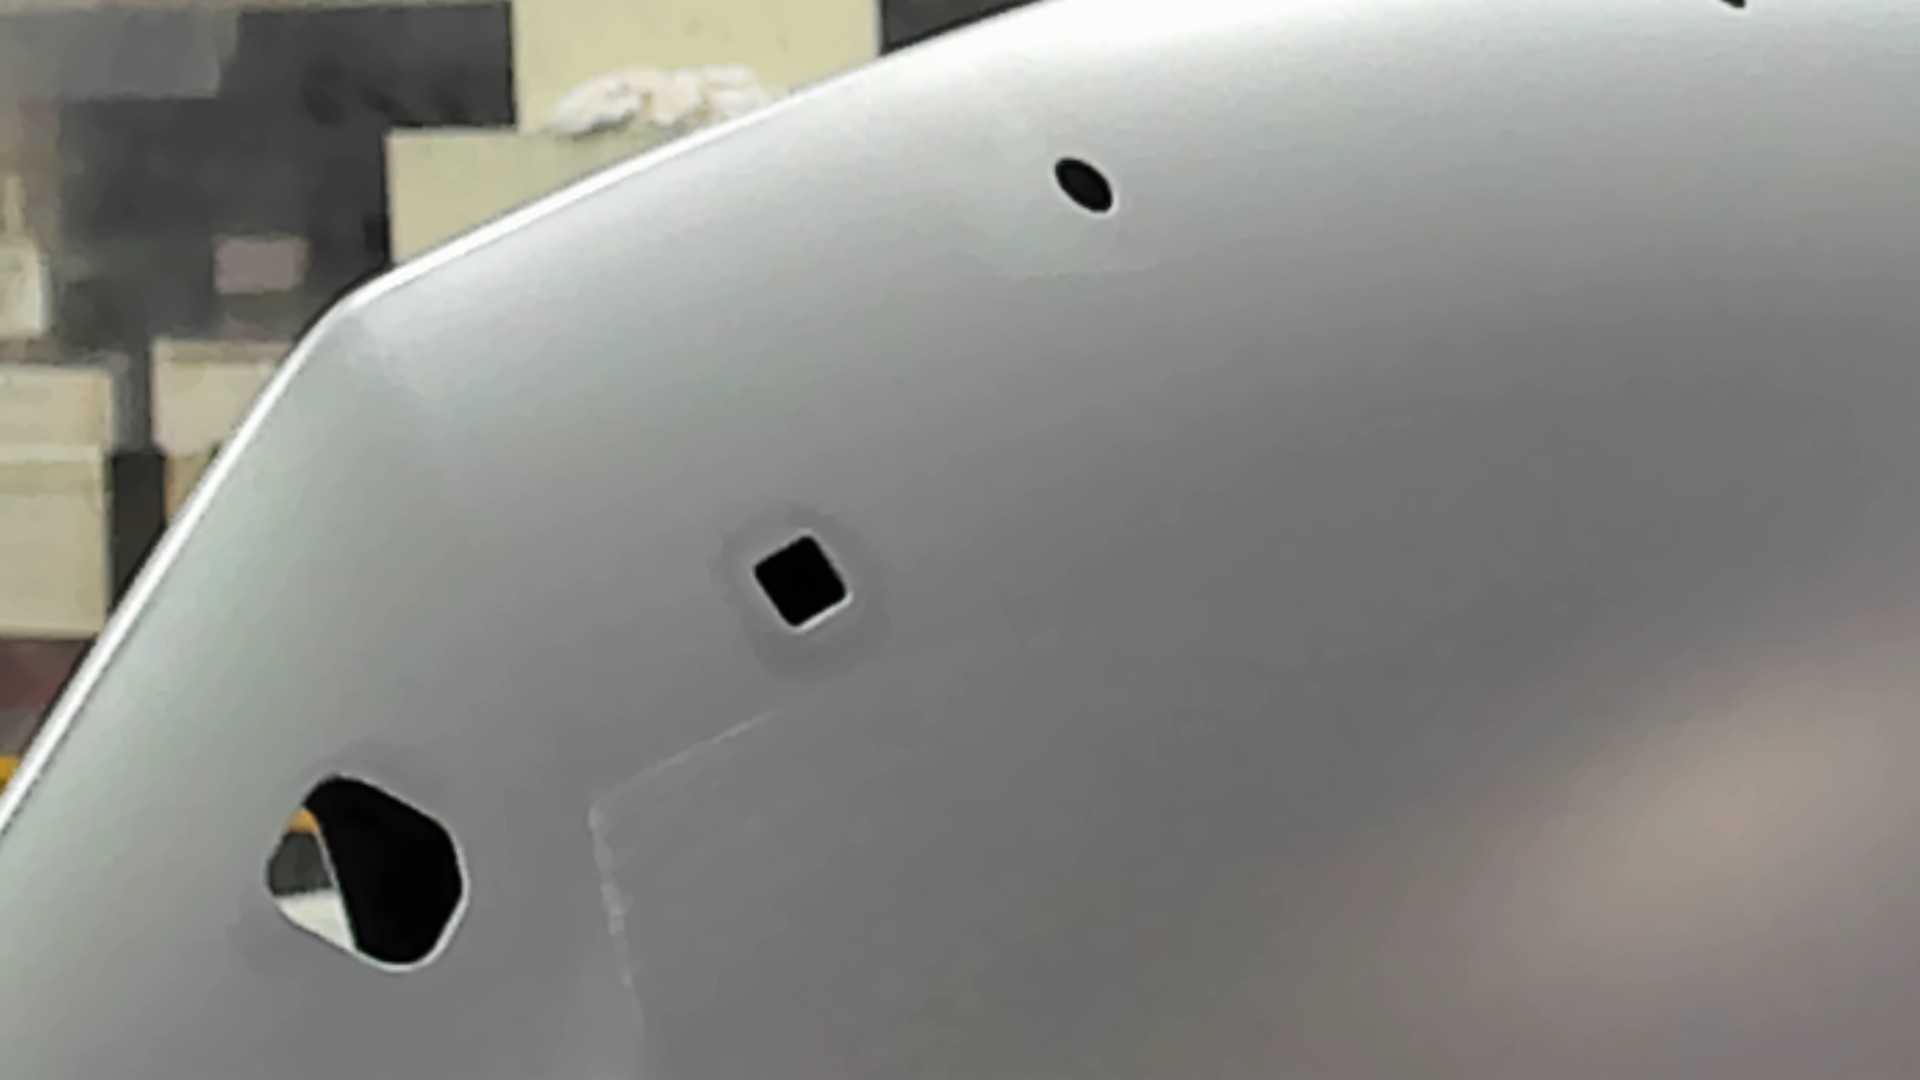capo: (858, 224, 1920, 1080)
chico: (1048, 152, 1120, 220)
grande: (260, 767, 471, 981)
mediano: (745, 527, 858, 638)
